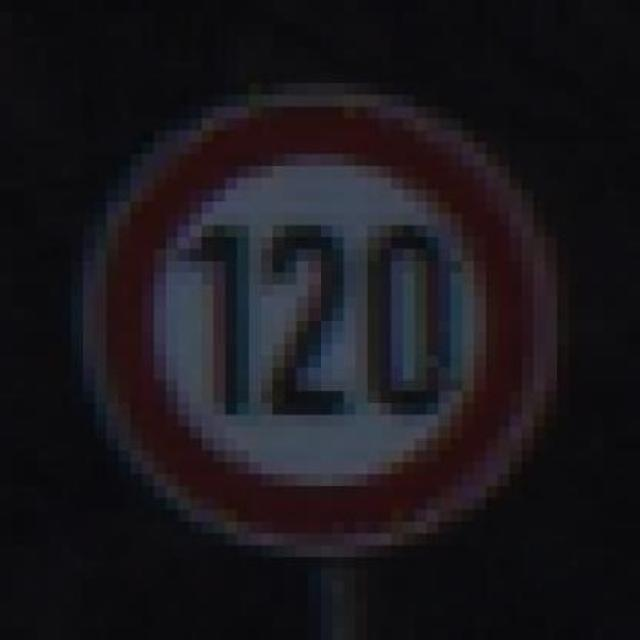forb_speed_over_120: (95, 101, 548, 545)
